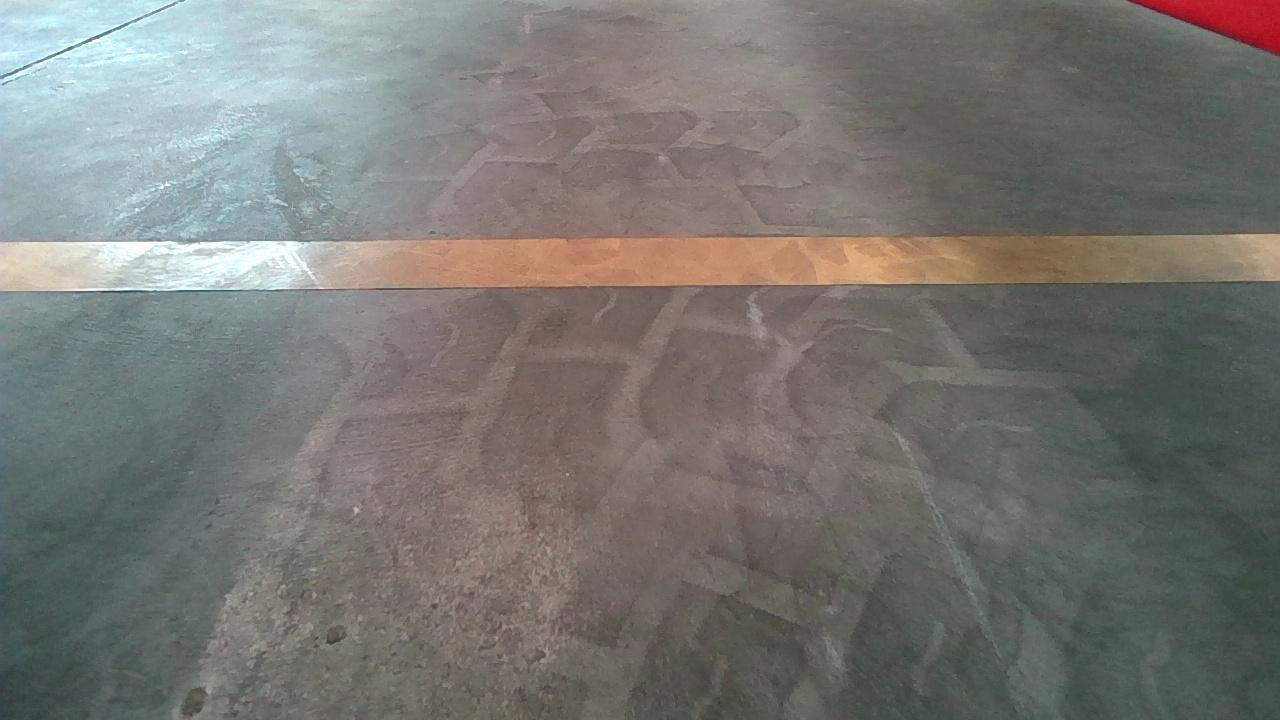yellow_line: (22, 226, 1279, 290)
